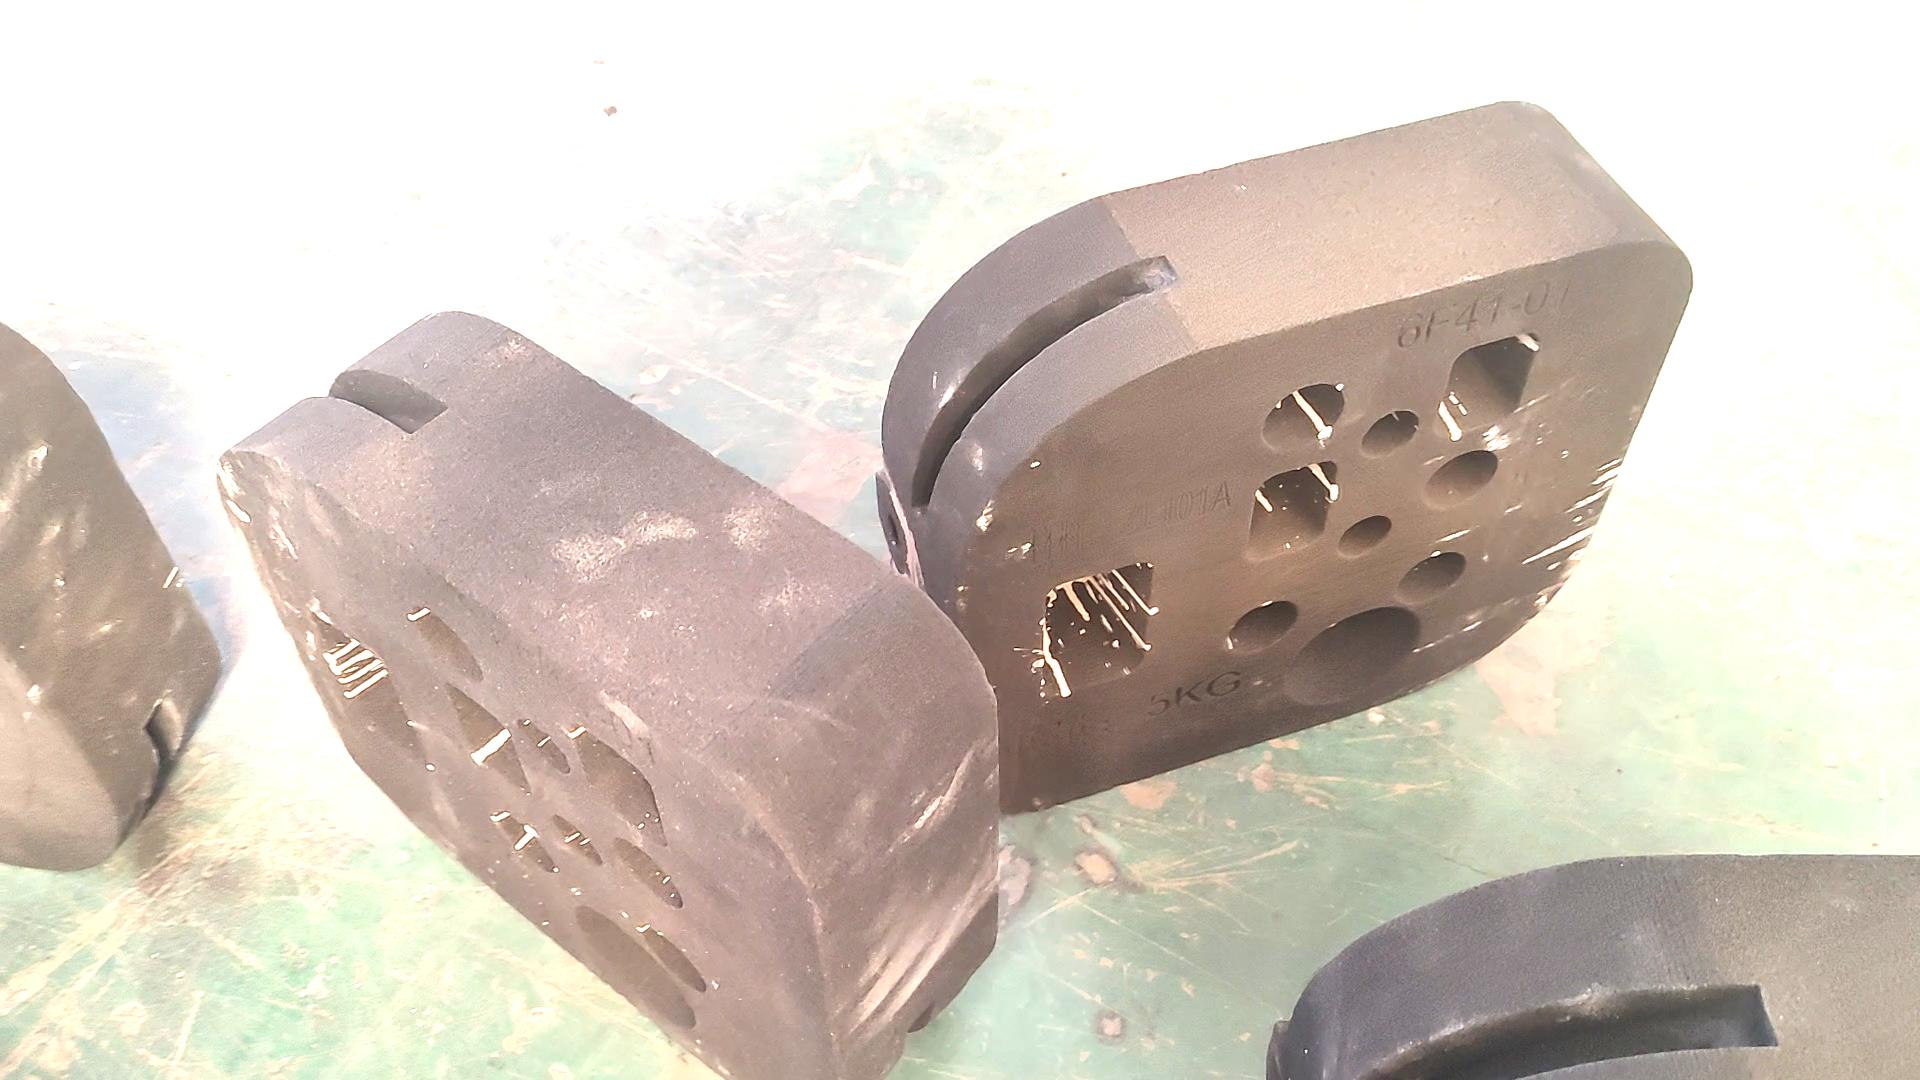pouring hole: (574, 903, 702, 1031), (1284, 604, 1420, 709)
